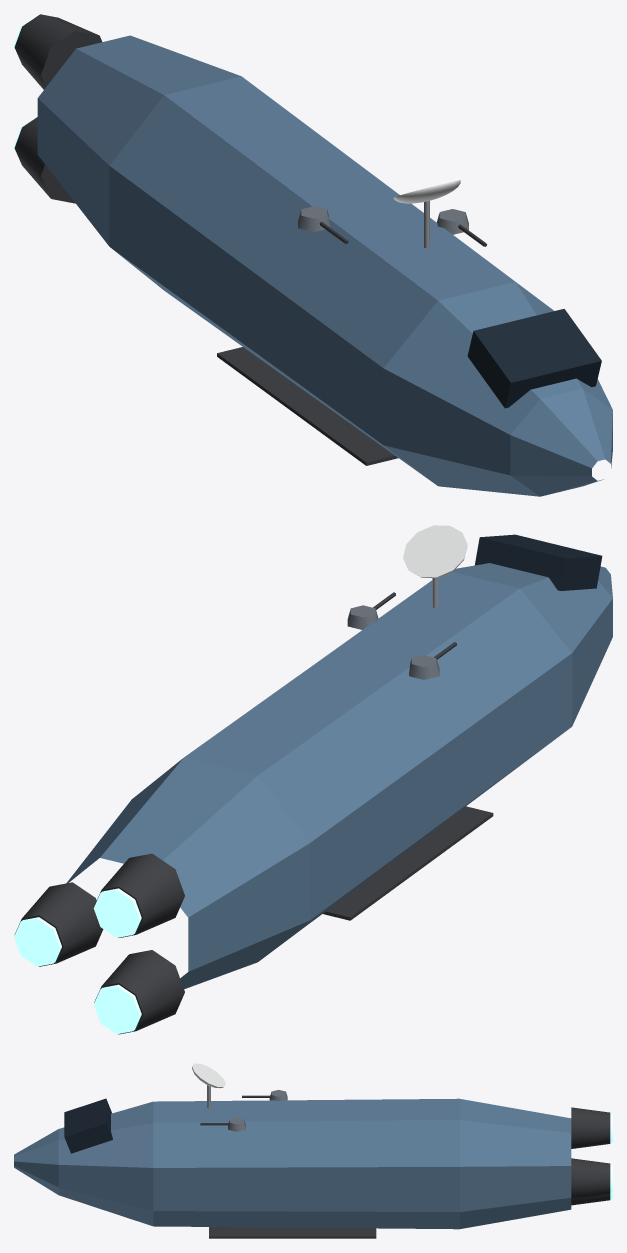
Rendered from space_ship_transport_mk5.glb.
3 renders of one model, top to bottom at view 1: azimuth 30°, elevation 25°; view 2: azimuth 150°, elevation 25°; view 3: azimuth 270°, elevation 25°, orthographic. The views are drawn at different scales.
Parts seen in each view (by area): view 1: body, hangar_door, engine_1, engine_2, antenna_0, turret_1, turret_0; view 2: body, engine_2, engine_1, engine_0, hangar_door, antenna_0, turret_1, turret_0; view 3: body, hangar_door, engine_0, engine_1, antenna_0, turret_0, turret_1, engine_2.
Part boxes in pixels (x1=…): body: x1=37, y1=35, x2=612, y2=496; hangar_door: x1=217, y1=347, x2=398, y2=465; engine_1: x1=14, y1=14, x2=102, y2=89; engine_2: x1=14, y1=115, x2=75, y2=203; antenna_0: x1=393, y1=180, x2=460, y2=248; turret_1: x1=298, y1=206, x2=348, y2=243; turret_0: x1=436, y1=209, x2=487, y2=246; body: x1=66, y1=534, x2=612, y2=989; engine_2: x1=93, y1=950, x2=184, y2=1034; engine_1: x1=93, y1=853, x2=184, y2=937; engine_0: x1=14, y1=882, x2=103, y2=966; hangar_door: x1=323, y1=806, x2=493, y2=920; antenna_0: x1=403, y1=525, x2=467, y2=607; turret_1: x1=409, y1=642, x2=456, y2=679; turret_0: x1=347, y1=592, x2=395, y2=629; body: x1=14, y1=1098, x2=571, y2=1229; hangar_door: x1=209, y1=1227, x2=376, y2=1238; engine_0: x1=571, y1=1158, x2=612, y2=1199; engine_1: x1=571, y1=1107, x2=612, y2=1148; antenna_0: x1=192, y1=1063, x2=225, y2=1108; turret_0: x1=200, y1=1117, x2=245, y2=1131; turret_1: x1=242, y1=1090, x2=287, y2=1101; engine_2: x1=571, y1=1193, x2=612, y2=1205.
Size of what is drawn, in the model's own units: 5.77 by 8.21 by 28.63.
